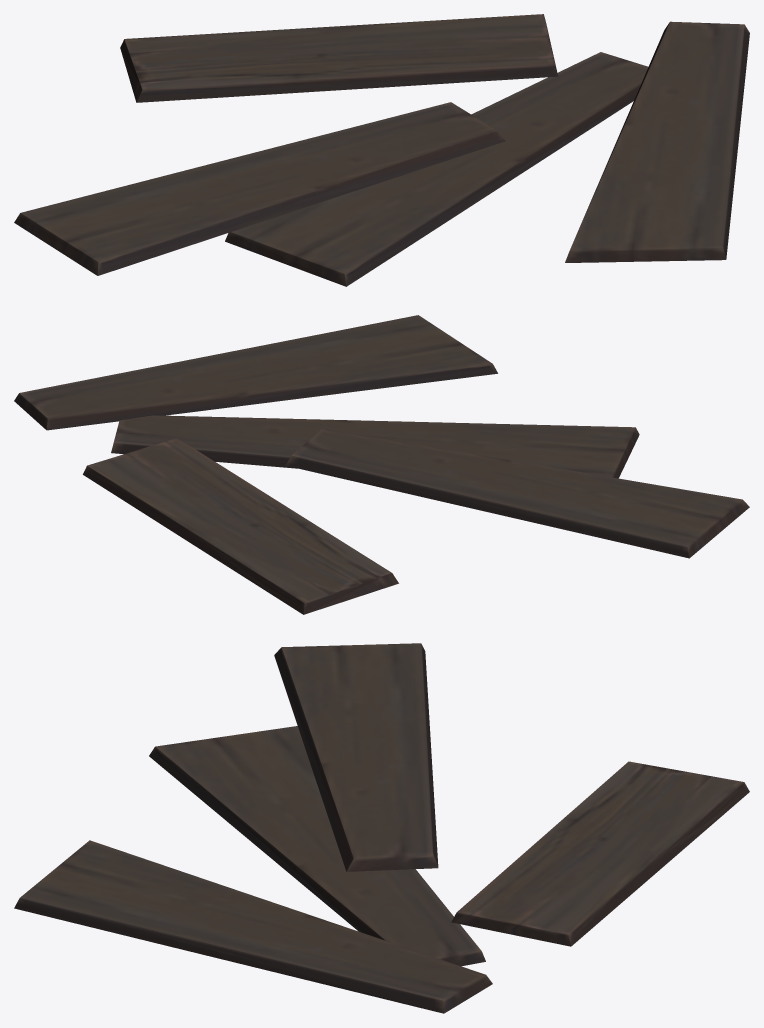
File: Area_11_8.fbx
3 renders of one model, top to bottom at view 1: azimuth 30°, elevation 25°; view 2: azimuth 150°, elevation 25°; view 3: azimuth 270°, elevation 25°, orthographic. The views are drawn at different scales.
Parts seen in each view (by area): view 1: Area_11_8; view 2: Area_11_8; view 3: Area_11_8.
Boxes of the visible parts, x1,y1,x2,y2 form: Area_11_8: (14, 14, 749, 286); Area_11_8: (14, 315, 749, 614); Area_11_8: (14, 643, 749, 1013).
Size of the model in its own units: 588 by 16.11 by 503.
